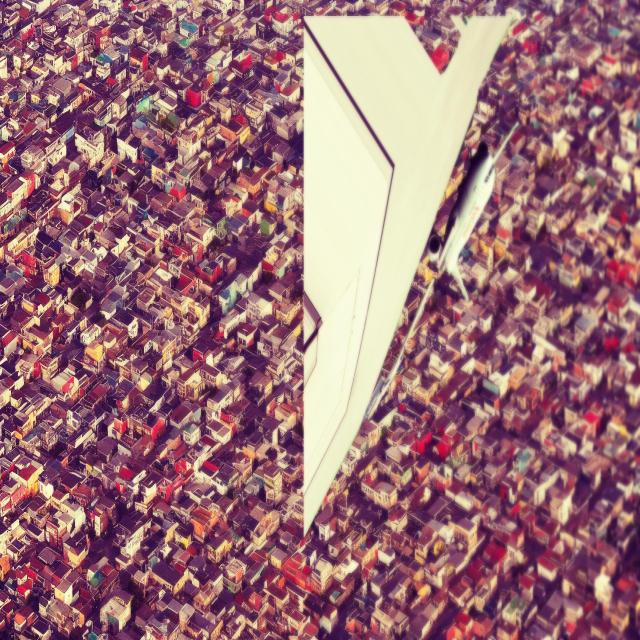airplane: (298, 10, 514, 538)
